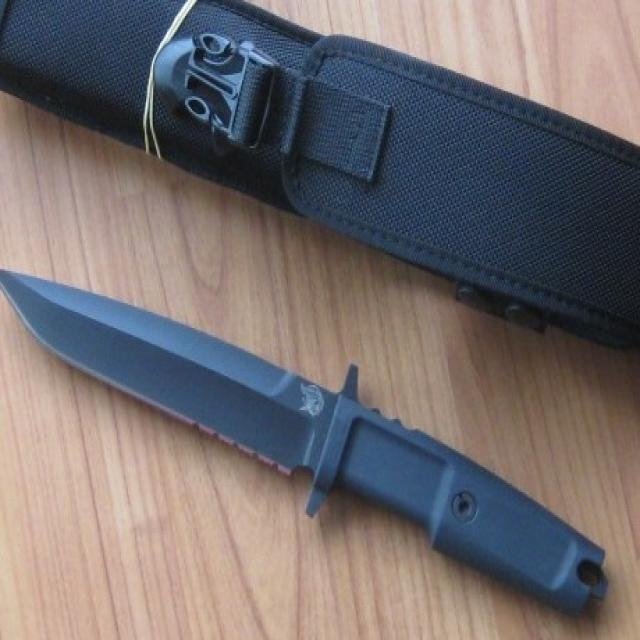knife: (1, 261, 610, 624)
